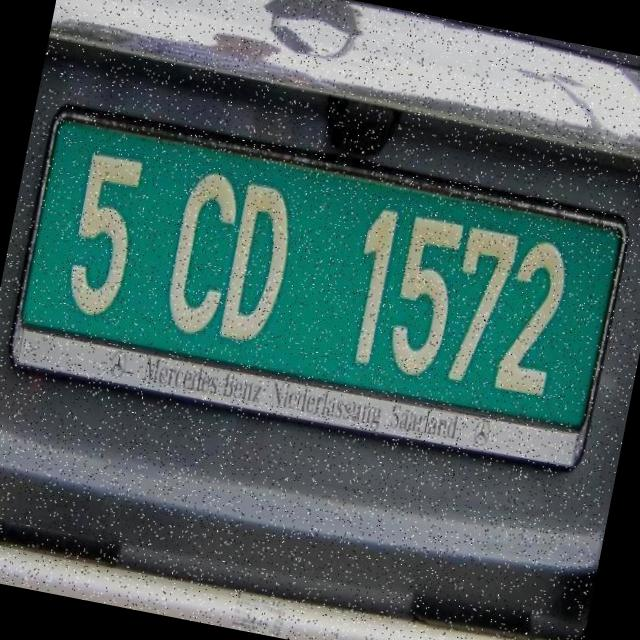LicensePlate: (5, 103, 633, 472)
